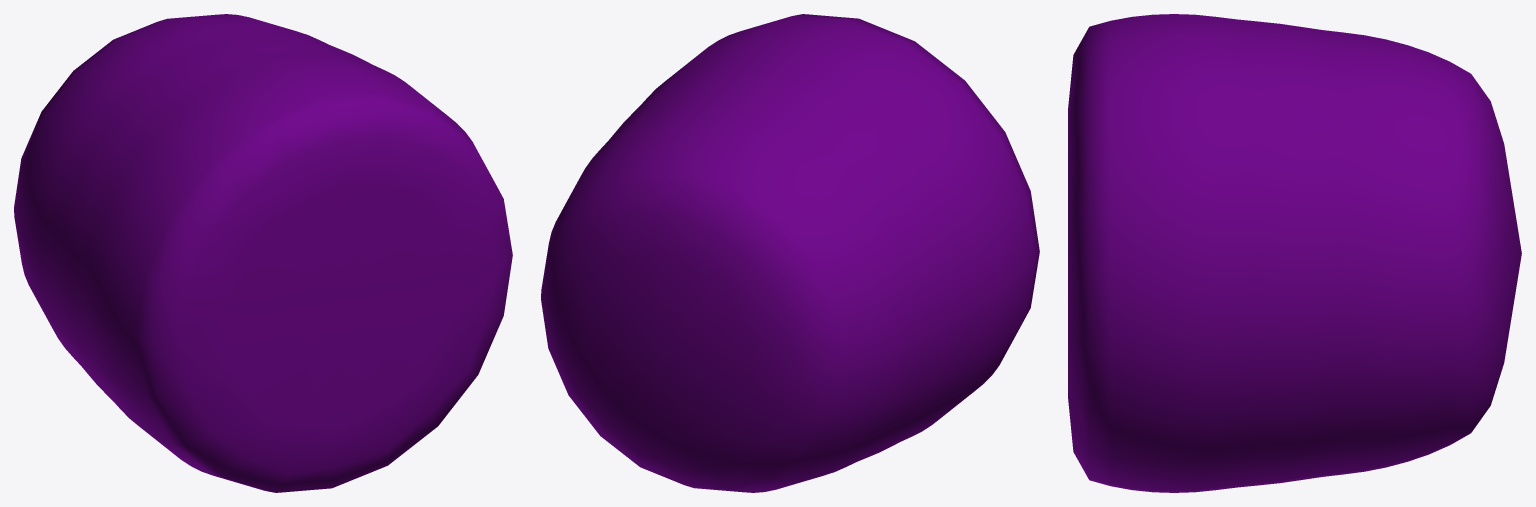
Rendered from BazookaAmmoPurple.fbx.
The picture shows the model from 3 angles, left to right: view 1: azimuth 30°, elevation 25°; view 2: azimuth 150°, elevation 25°; view 3: azimuth 270°, elevation 25°; orthographic projection. The views are drawn at different scales.
Parts seen in each view (by area): view 1: BazookaAmmo; view 2: BazookaAmmo; view 3: BazookaAmmo.
Boxes of the visible parts, <box> form: BazookaAmmo: <box>14,14,512,492</box>; BazookaAmmo: <box>541,14,1039,492</box>; BazookaAmmo: <box>1068,14,1521,492</box>.
Bounding box in the file's own units: 1.45 × 1.45 × 1.37.
